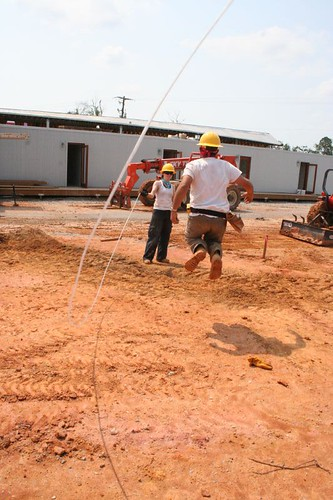person hardhat: (180, 127, 253, 288), (142, 158, 182, 273)
